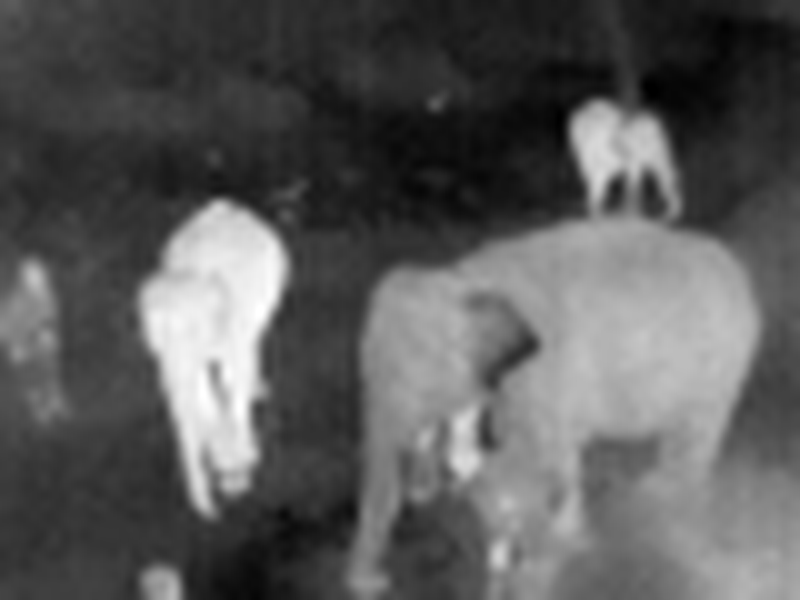elephant: (354, 249, 762, 577), (129, 198, 277, 522), (557, 96, 680, 227)
